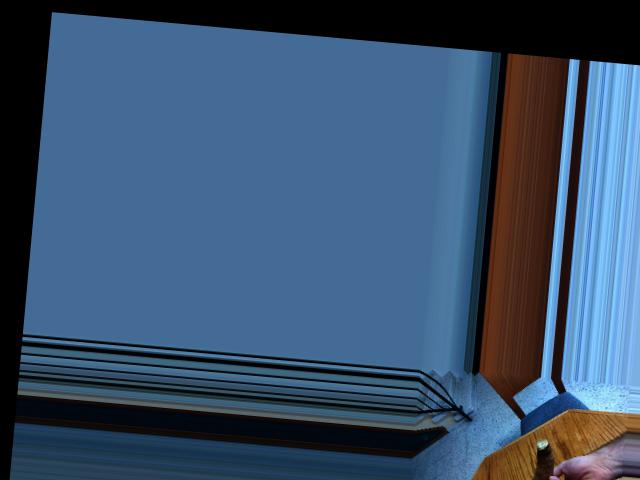sweet_potato: (533, 436, 554, 480)
